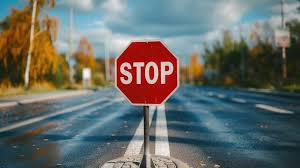stop sign: (114, 40, 180, 106)
